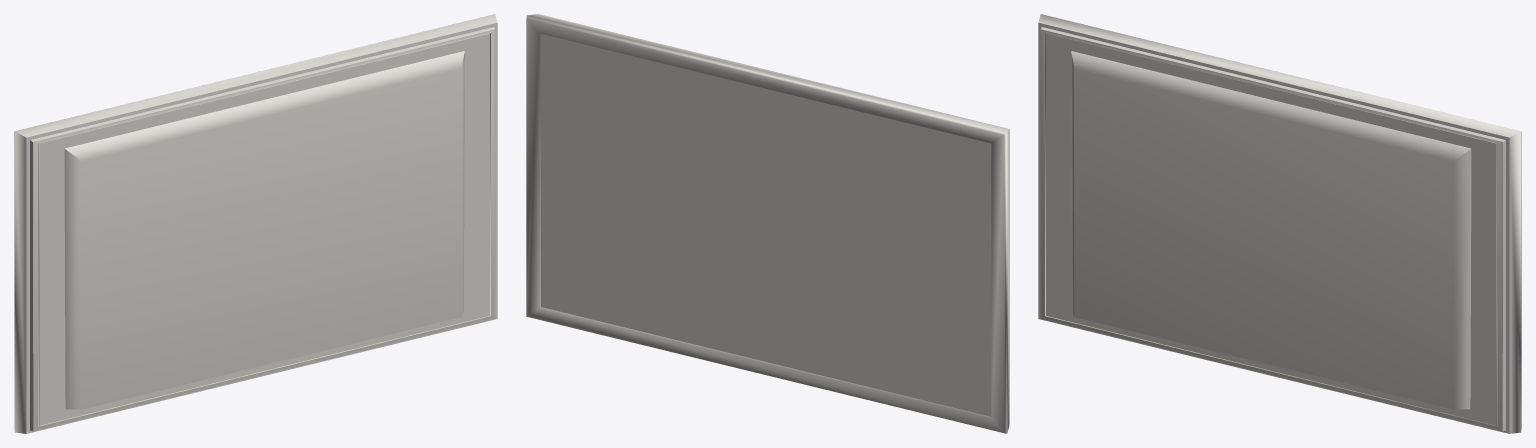
Rendered from tivi4.glb.
3 views of the same model, side by side, from view 1: azimuth 30°, elevation 25°; view 2: azimuth 150°, elevation 25°; view 3: azimuth 330°, elevation 25° (orthographic).
Visible parts, largest first — view 1: node_id267; view 2: node_id265, node_id267; view 3: node_id267.
Boxes of the visible parts, box(x1,y1,x2,y2) form: node_id267: box(14, 14, 497, 433); node_id265: box(541, 34, 991, 416); node_id267: box(526, 14, 1009, 433); node_id267: box(1038, 14, 1521, 433).
Size of the model in its own units: 0.512 by 0.3069 by 0.0337.
Materials: 2 (2 with a texture image).
